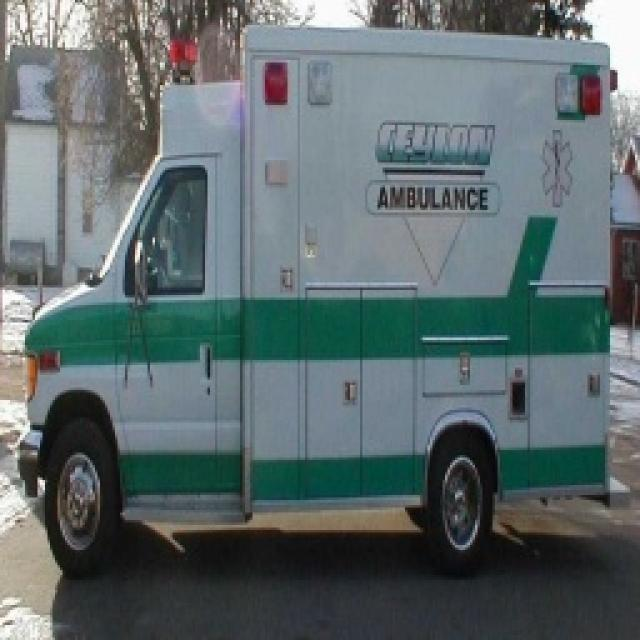emergency-vehicle: (26, 22, 614, 566)
